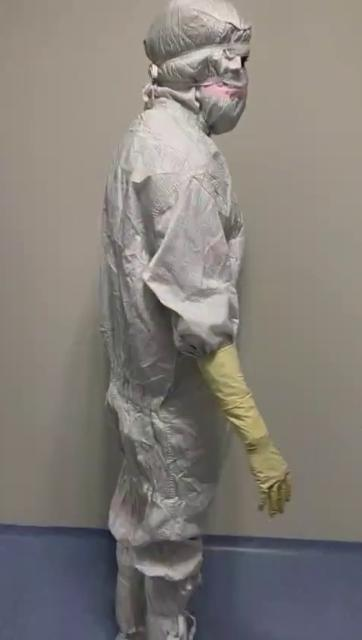gloves_fitted_securely: (175, 335, 304, 523)
headgear_secured: (139, 2, 261, 148)
